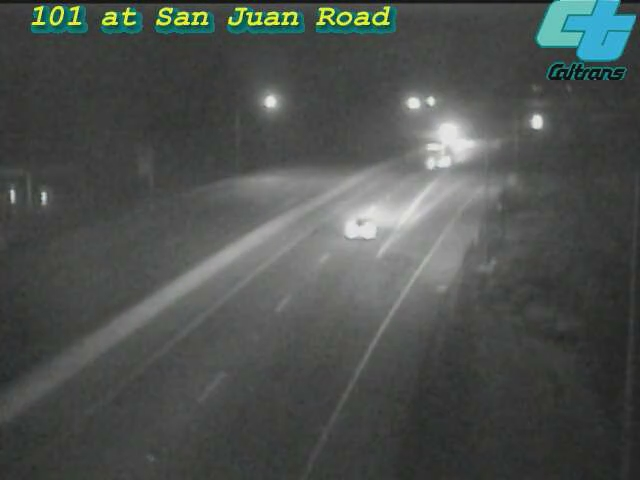vehicle: (325, 185, 405, 265), (419, 107, 469, 157), (510, 97, 560, 147), (441, 117, 491, 167), (422, 126, 472, 176)
